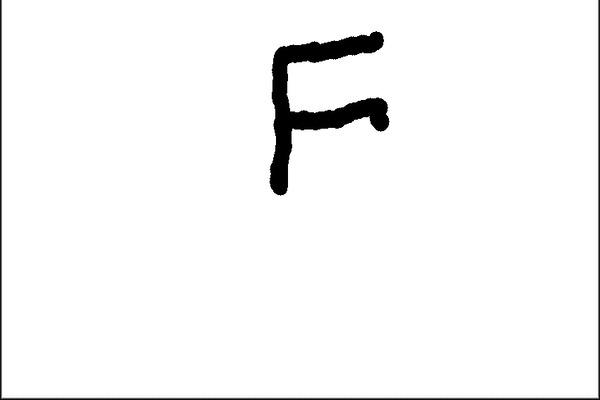F: (259, 26, 394, 200)
